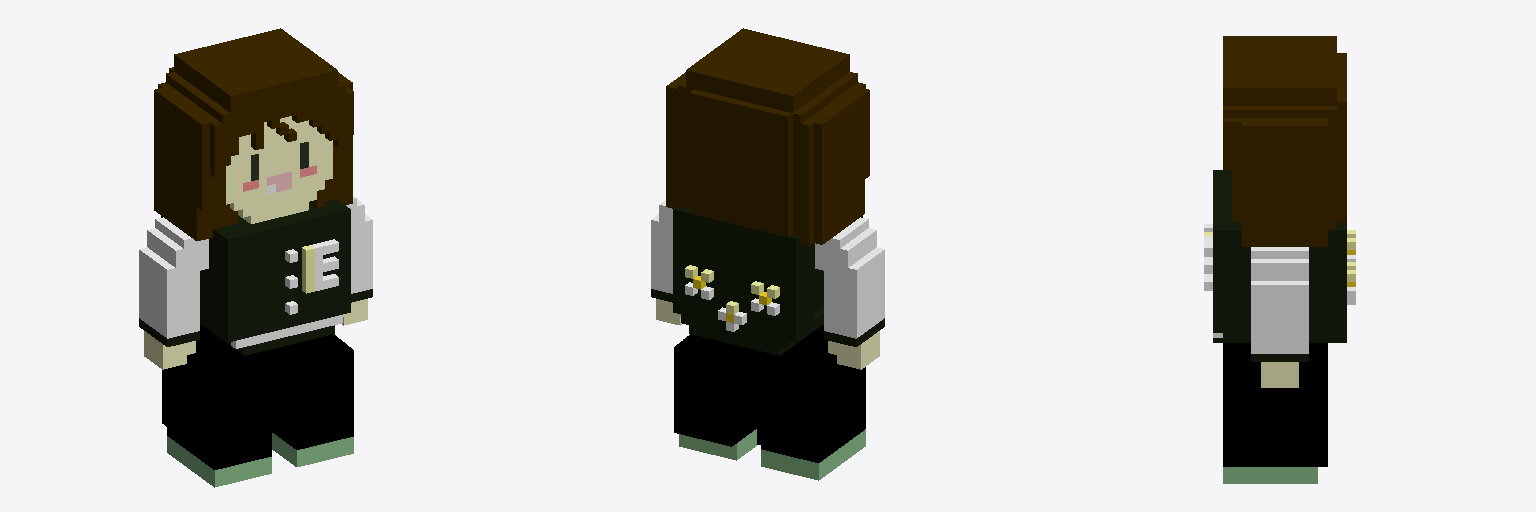
The picture shows the model from 3 angles: view 1: azimuth 30°, elevation 25°; view 2: azimuth 150°, elevation 25°; view 3: azimuth 270°, elevation 25°; orthographic projection.
Visible parts, largest first — view 1: object 1; view 2: object 1; view 3: object 1.
Boxes of the visible parts, x1=… form: object 1: x1=139, y1=28, x2=372, y2=487; object 1: x1=651, y1=28, x2=884, y2=480; object 1: x1=1204, y1=36, x2=1355, y2=483.
Size of the model in its own units: 2.5 by 4.5 by 1.6.
1 materials, 1 textured.